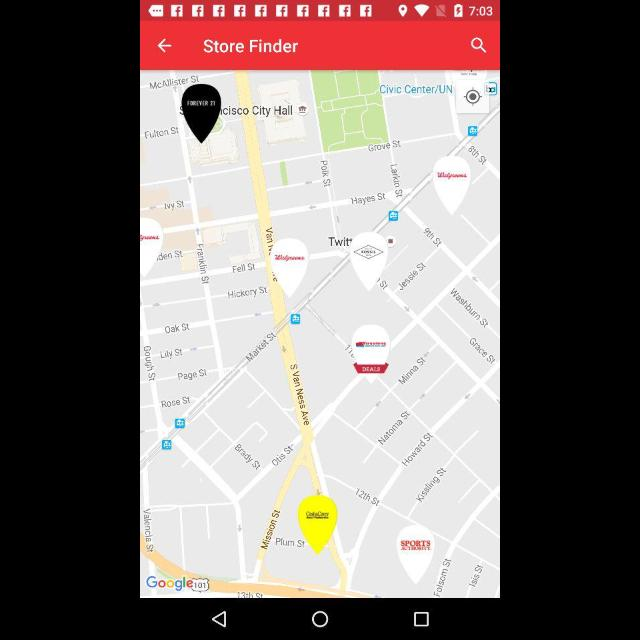icon: (463, 87, 482, 107), (312, 611, 328, 627), (414, 612, 428, 628), (212, 611, 226, 627), (472, 38, 486, 52), (158, 39, 172, 53)
map: (141, 70, 499, 598)
panel: (140, 600, 500, 638)
text: (204, 40, 298, 52)
toolbar: (141, 21, 499, 69)
uppertaskbar: (141, 1, 499, 21)
